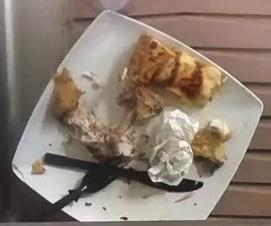pizza: (128, 35, 221, 105)
